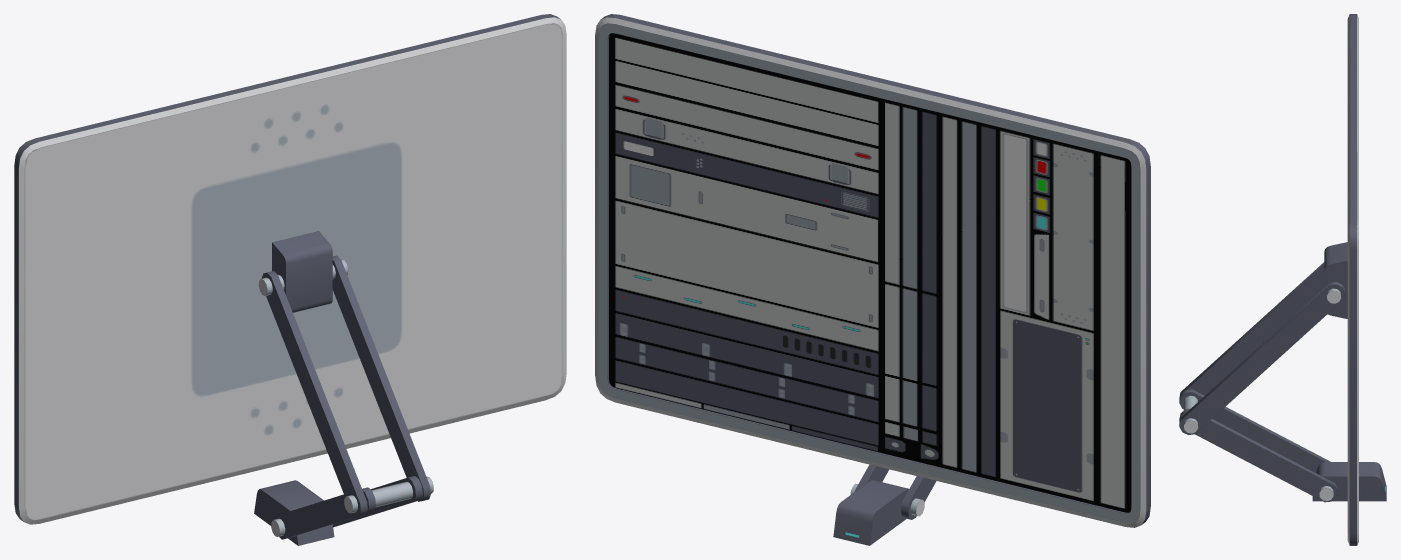
The model's file is Articulated_TV_Screen_02.FBX.
3 renders of one model, left to right at view 1: azimuth 30°, elevation 25°; view 2: azimuth 150°, elevation 25°; view 3: azimuth 270°, elevation 25°, orthographic. The views are drawn at different scales.
Parts seen in each view (by area): view 1: Screen_Part_01, Screen_Axis_02, Screen_Axis_01, Articulated_TV_Screen_02; view 2: Screen_A, Screen_Part_01, Articulated_TV_Screen_02, Screen_Axis_01; view 3: Screen_Axis_02, Screen_Part_01, Screen_Axis_01, Articulated_TV_Screen_02.
Part boxes in pixels (box(x1,y1,x2,y2)): Screen_Part_01: box(14, 14, 566, 524); Screen_Axis_02: box(258, 255, 430, 517); Screen_Axis_01: box(271, 476, 433, 539); Articulated_TV_Screen_02: box(254, 480, 334, 545); Screen_A: box(609, 33, 1131, 512); Screen_Part_01: box(595, 14, 1150, 527); Articulated_TV_Screen_02: box(833, 480, 908, 545); Screen_Axis_01: box(850, 464, 936, 519); Screen_Axis_02: box(1179, 262, 1345, 434); Screen_Part_01: box(1324, 14, 1358, 545); Screen_Axis_01: box(1179, 389, 1337, 502); Articulated_TV_Screen_02: box(1312, 462, 1386, 501).
Size of the model in its own units: 3.04 by 2.36 by 1.19.
